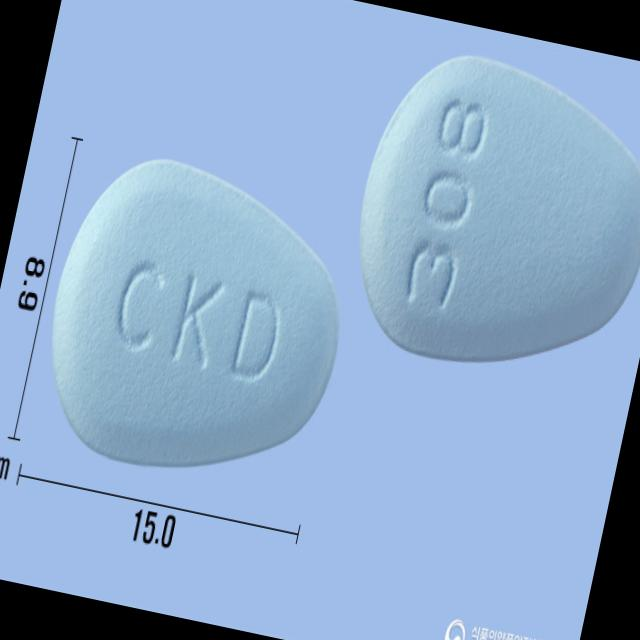Tenofobell Tab: (23, 136, 370, 502), (334, 31, 640, 398)
